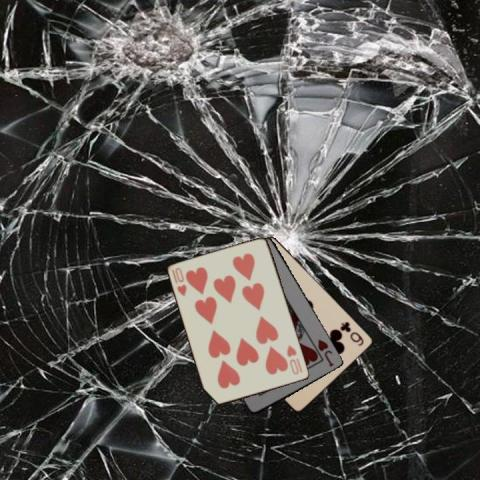10h: (284, 342, 304, 376), (169, 265, 188, 298)
6c: (338, 319, 366, 347)
Jh: (315, 337, 335, 368)
